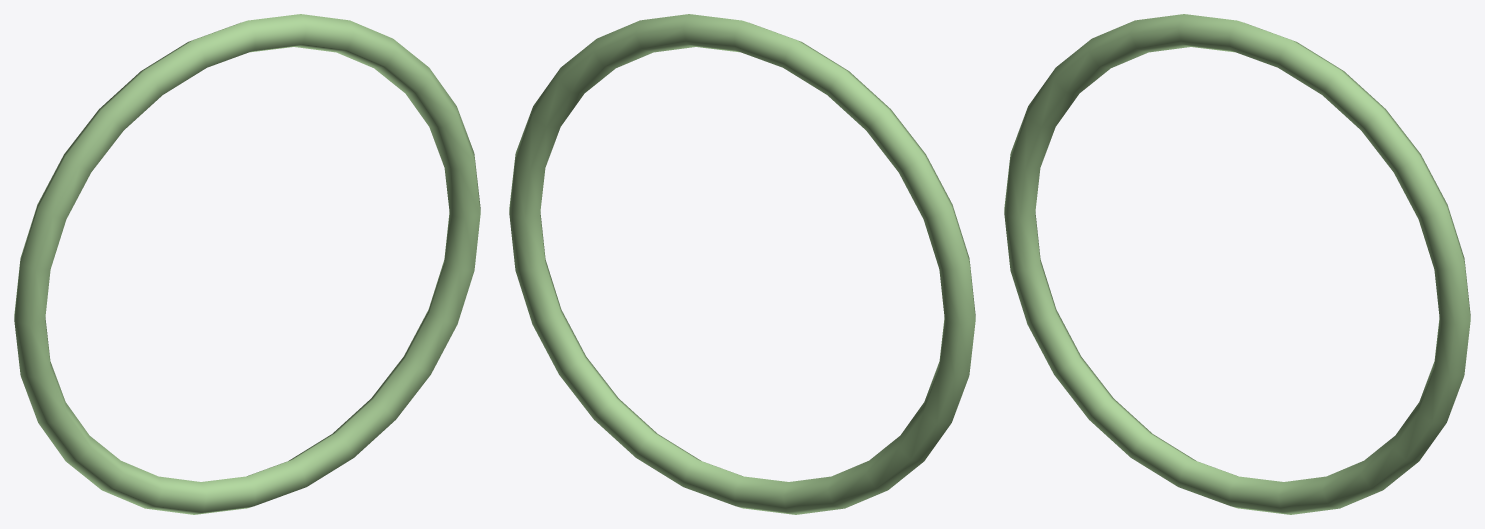
Rendered from met decor 03 circle.FBX.
3 renders of one model, left to right at view 1: azimuth 30°, elevation 25°; view 2: azimuth 150°, elevation 25°; view 3: azimuth 330°, elevation 25°, orthographic.
Visible parts, largest first — view 1: Circle001; view 2: Circle001; view 3: Circle001.
Boxes of the visible parts, x1,y1,x2,y2 form: Circle001: (14,14,480,514); Circle001: (509,14,975,514); Circle001: (1004,14,1470,514).
Bounding box in the file's own units: 1.07 × 1.07 × 0.0606.
